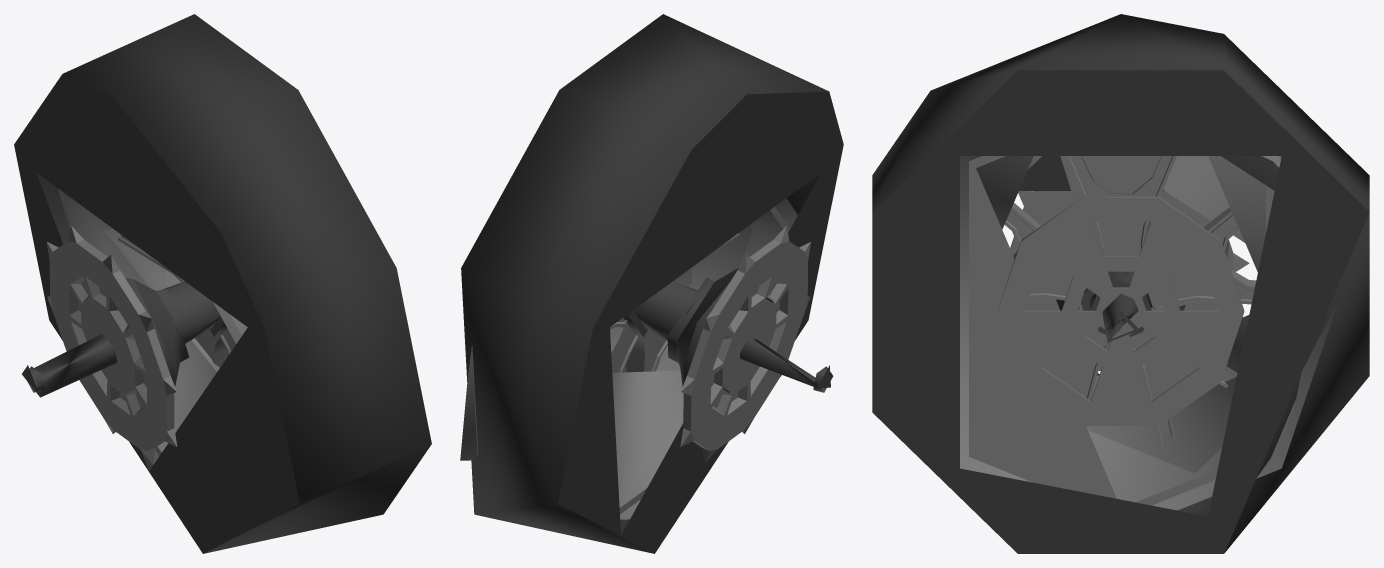
The model's file is wheelF.glb.
3 views of the same model, side by side, from view 1: azimuth 30°, elevation 25°; view 2: azimuth 150°, elevation 25°; view 3: azimuth 270°, elevation 25° (orthographic).
Visible parts, largest first — view 1: Wheel_B001_Textures_0, Wheel_B001_Mat Wheel_0; view 2: Wheel_B001_Textures_0, Wheel_B001_Mat Wheel_0; view 3: Wheel_B001_Textures_0, Wheel_B001_Mat Wheel_0.
Boxes of the visible parts, x1=… form: Wheel_B001_Textures_0: x1=14, y1=14, x2=431, y2=553; Wheel_B001_Mat Wheel_0: x1=36, y1=173, x2=247, y2=464; Wheel_B001_Textures_0: x1=461, y1=14, x2=843, y2=553; Wheel_B001_Mat Wheel_0: x1=460, y1=198, x2=797, y2=519; Wheel_B001_Textures_0: x1=872, y1=14, x2=1369, y2=553; Wheel_B001_Mat Wheel_0: x1=960, y1=156, x2=1335, y2=510.
Bounding box in the file's own units: 0.2434 × 0.35 × 0.3235.
Materials: 2 (1 with a texture image).
